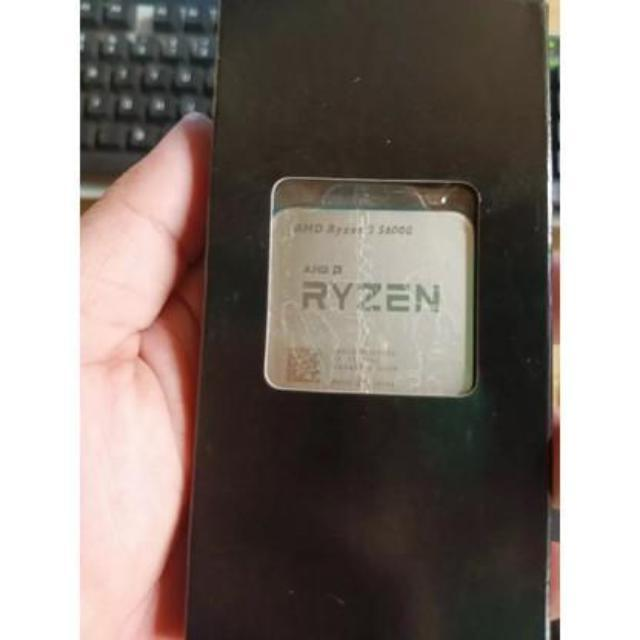CPU: (246, 203, 483, 414)
